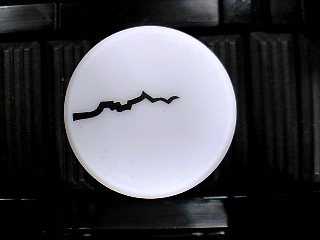CRACK: (62, 25, 238, 200)
